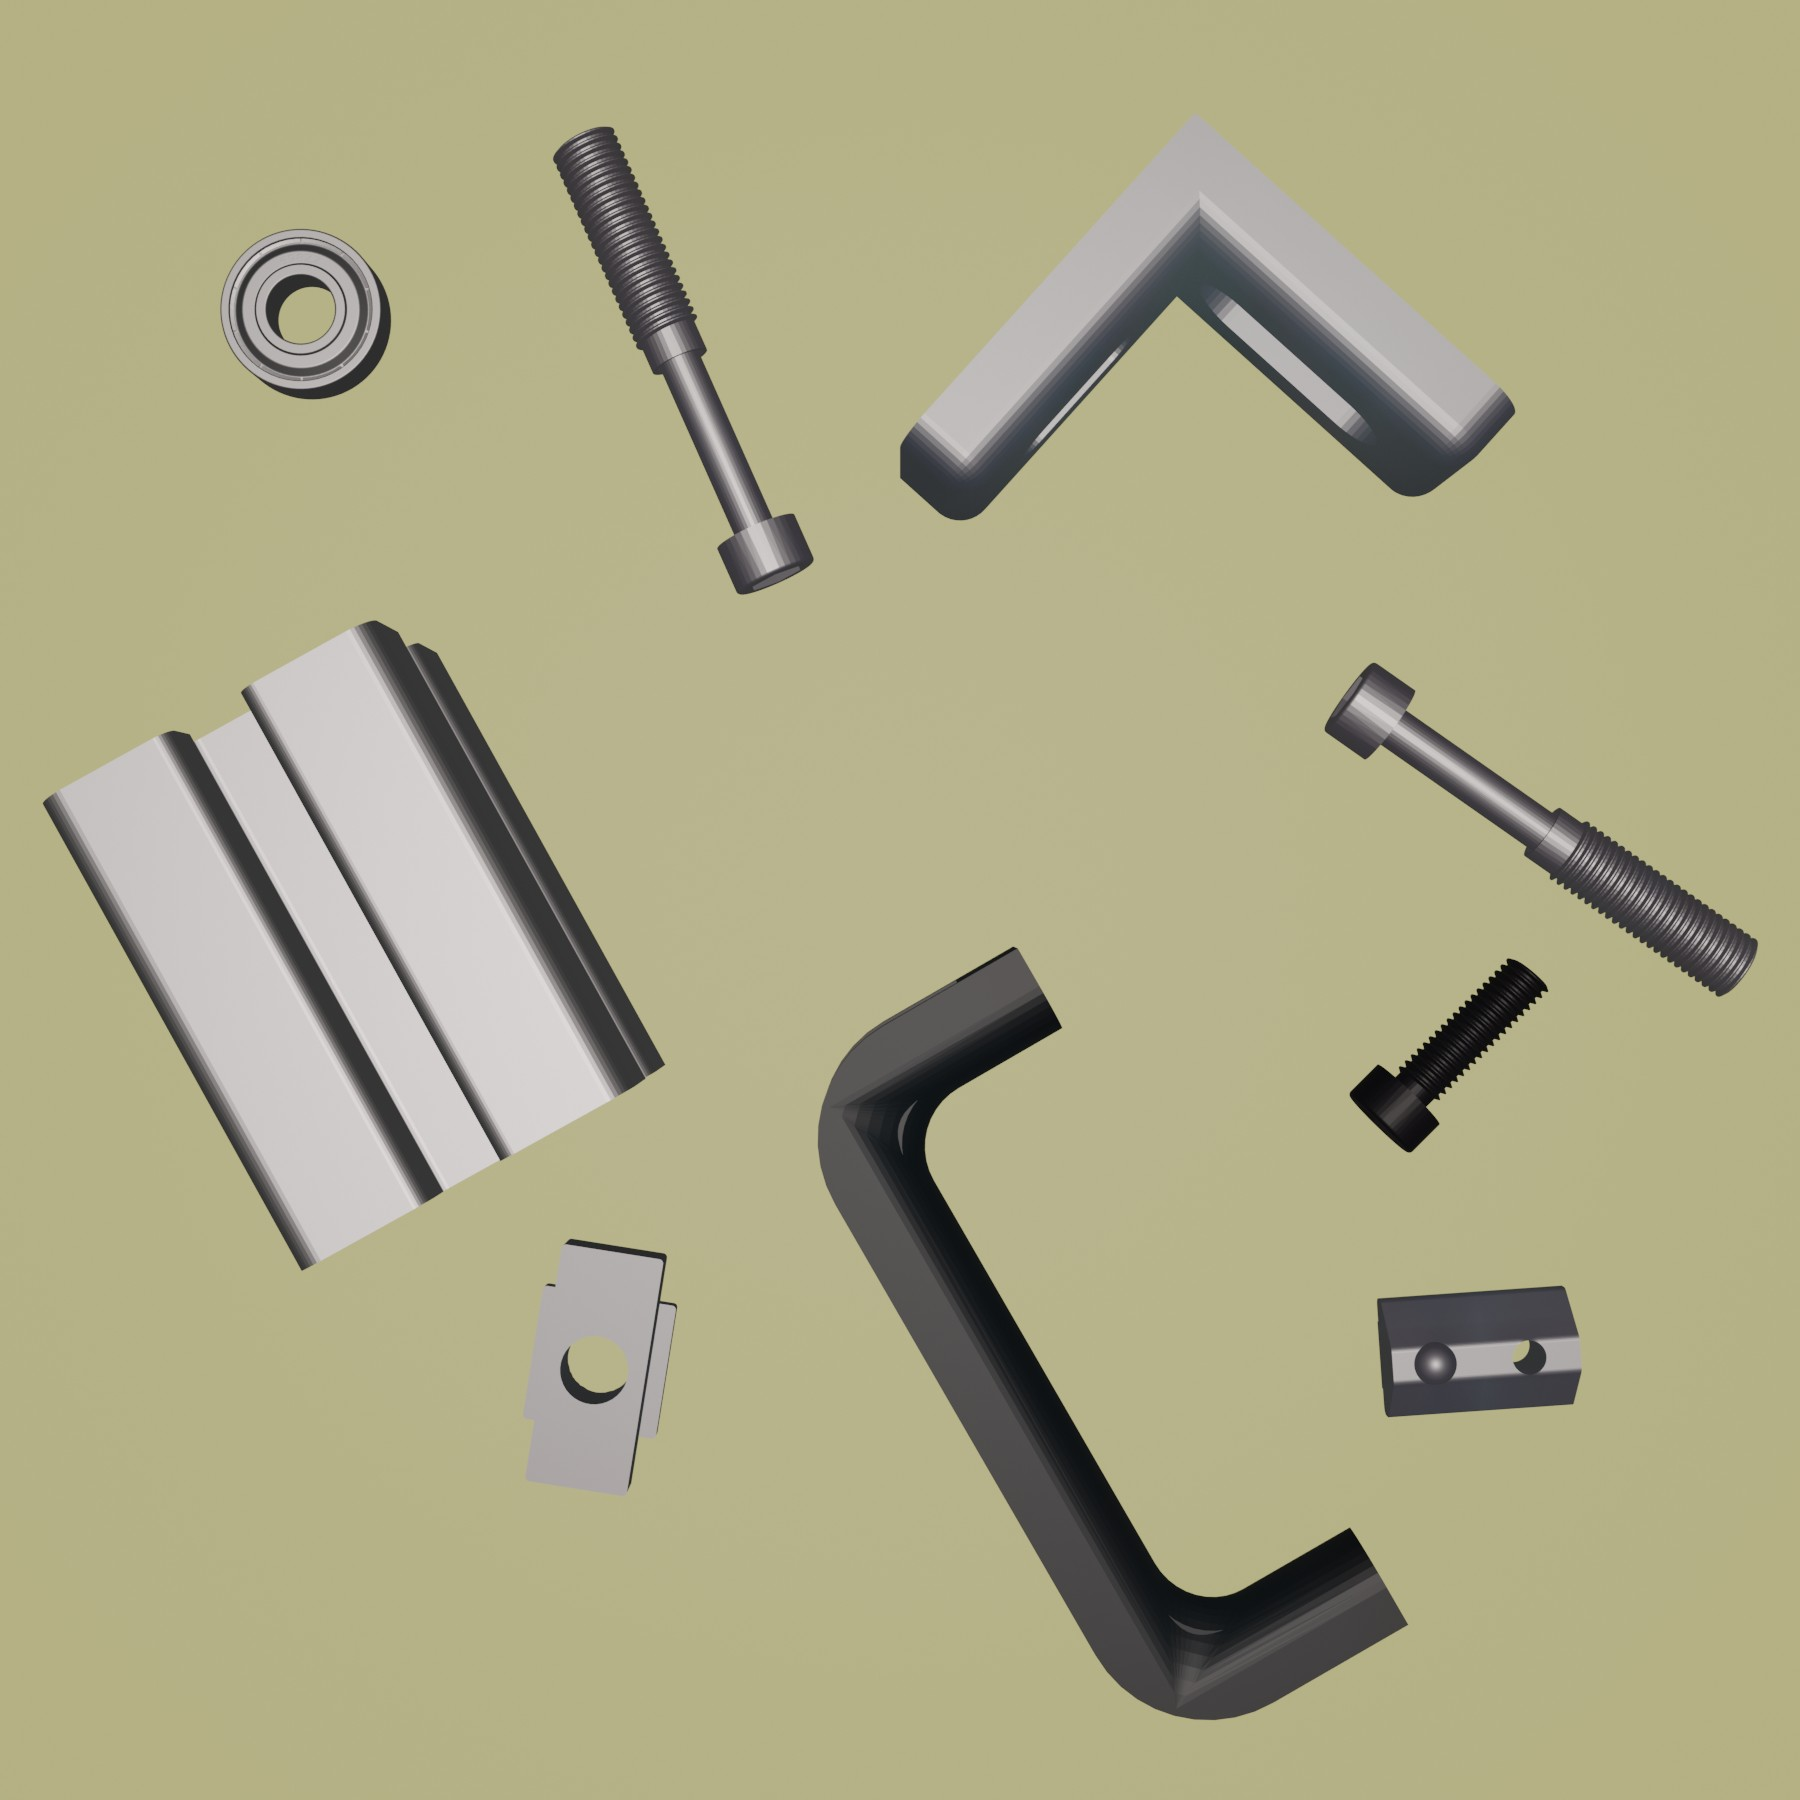Aluminium Extension: (40, 615, 669, 1274)
Ball Bearing: (219, 223, 392, 401)
Multiwinkel: (897, 109, 1520, 524)
Pull Handle: (813, 941, 1408, 1723)
Shoulder Socket Head Cap Screw: (1324, 659, 1762, 1001), (547, 122, 814, 597)
Socket Head Cap Screw: (1347, 958, 1549, 1157)
T Nut Square: (519, 1235, 682, 1498)
T Spring Nut: (1371, 1286, 1582, 1419)
